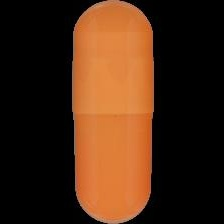0555-1057: (0, 0, 224, 224)
